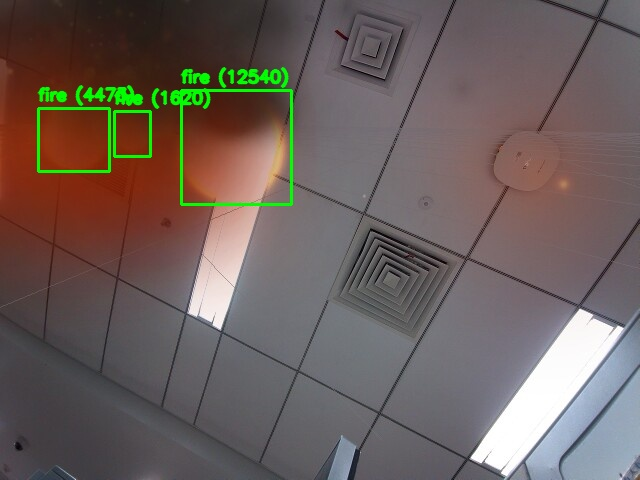fire: (181, 90, 291, 204), (38, 108, 109, 171), (114, 111, 150, 156)
